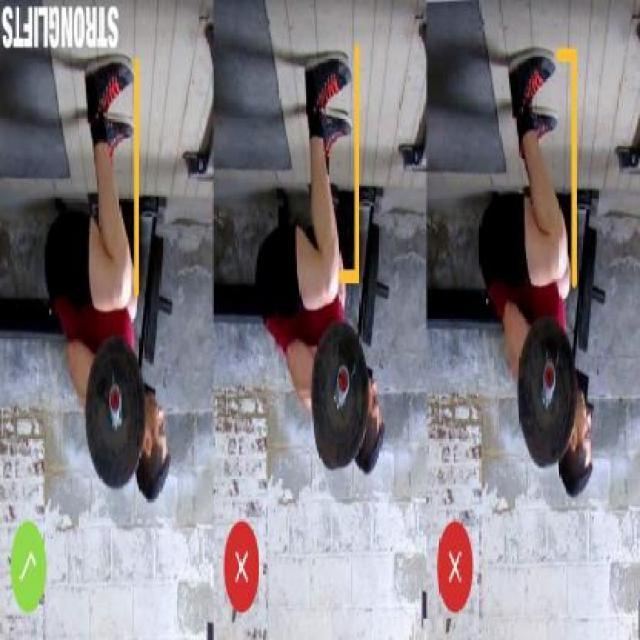Barbell: (108, 380, 124, 422), (540, 358, 558, 394), (336, 361, 352, 401)
